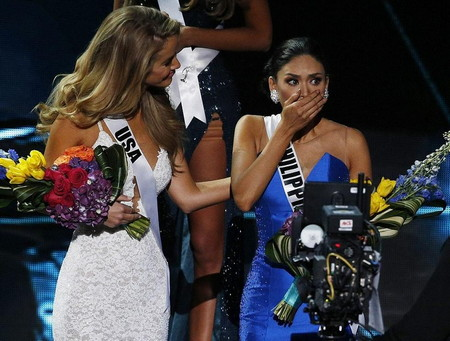face: (275, 57, 327, 112), (133, 35, 180, 86)
